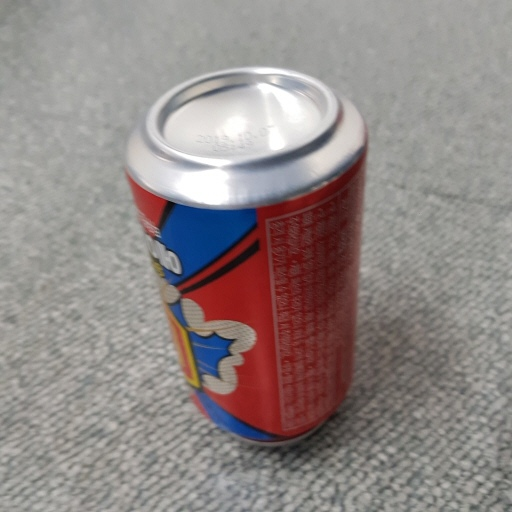Metal_0: (125, 66, 370, 448)
